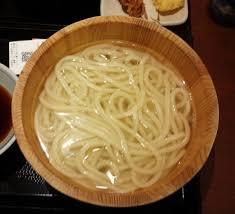kamaage: (8, 9, 223, 213)
